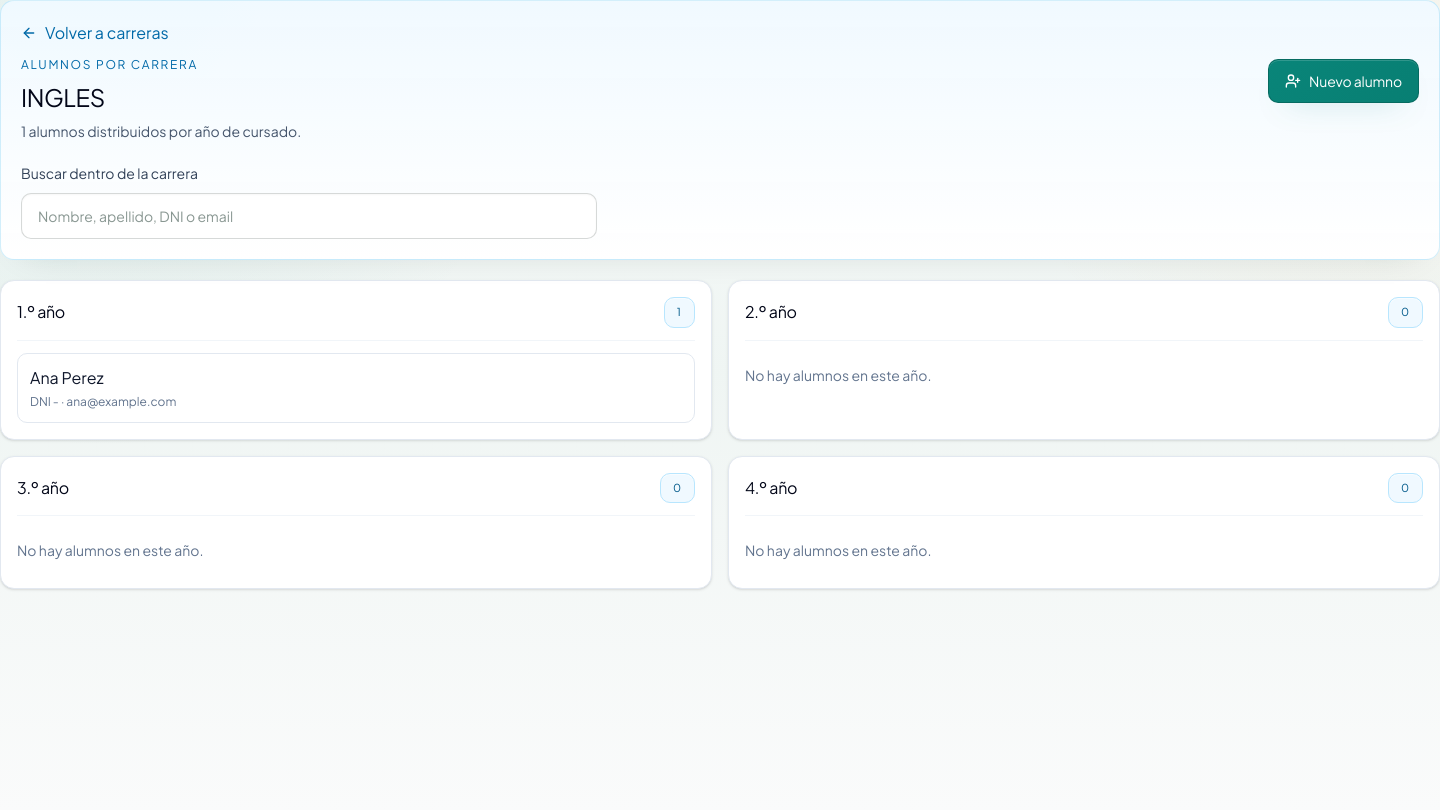
it: StudentRosterSection con plantilla nueva › actualiza adeuda cuota usando el registro financiero existente
Click the text "Ana Perez": (67, 377) [30, 366, 104, 388]
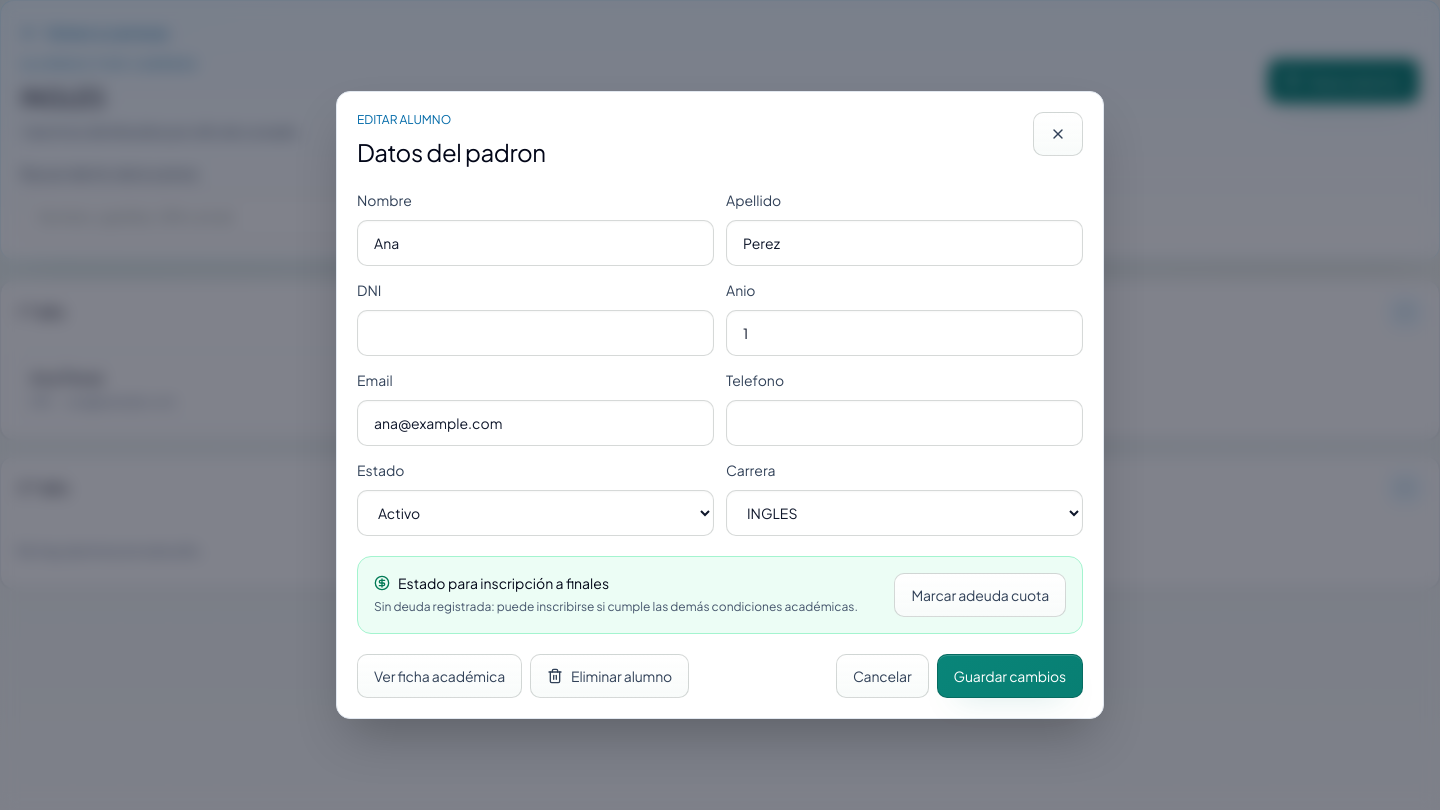
Result: the button "Marcar adeuda cuota" is enabled
Click the button "Marcar adeuda cuota": (980, 595) [894, 573, 1066, 617]
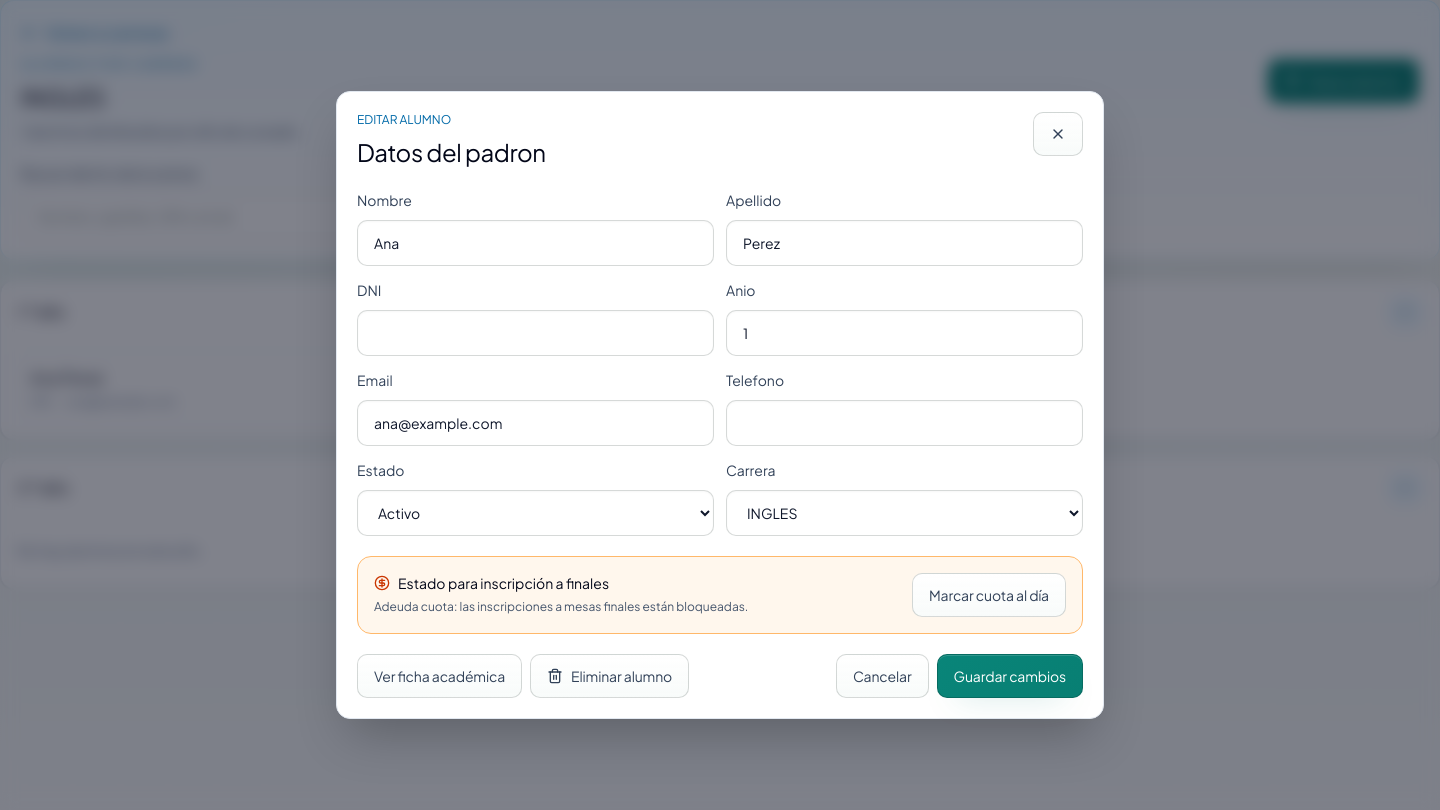
Result: the text "las inscripciones a mesas finales están bloqueadas" is shown at [374, 599, 748, 614]
